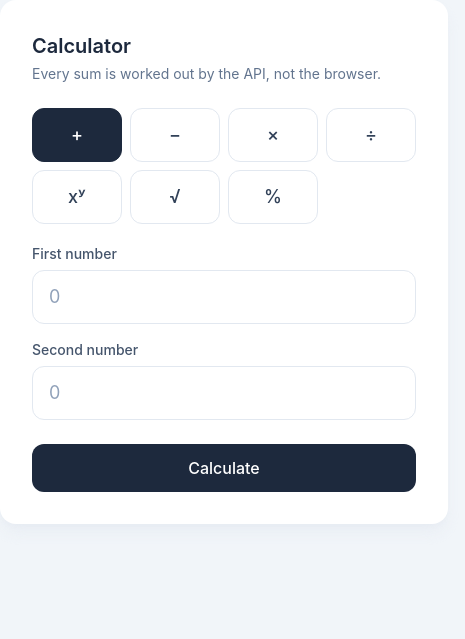
Test: displaying the result › renders the expression for {}
The image size is (465, 639).
Click the button named "subtraction" at (175,135), box x1=130 y1=108 x2=220 y2=162
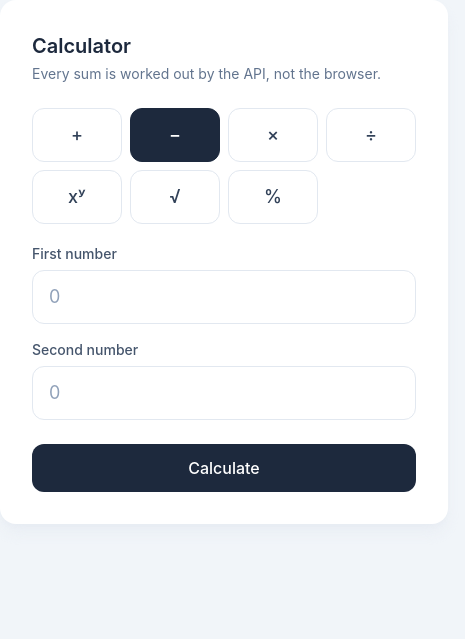
Type "10" into the field labelled "First number" at (224,297), box x1=32 y1=270 x2=416 y2=324
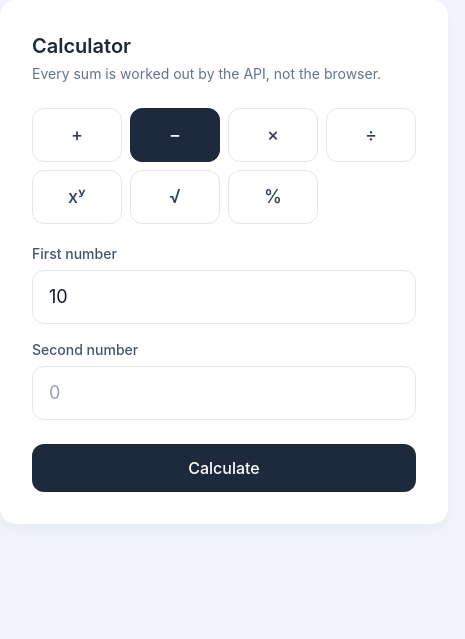
Type "3" into the field labelled "Second number" at (224,393), box x1=32 y1=366 x2=416 y2=420
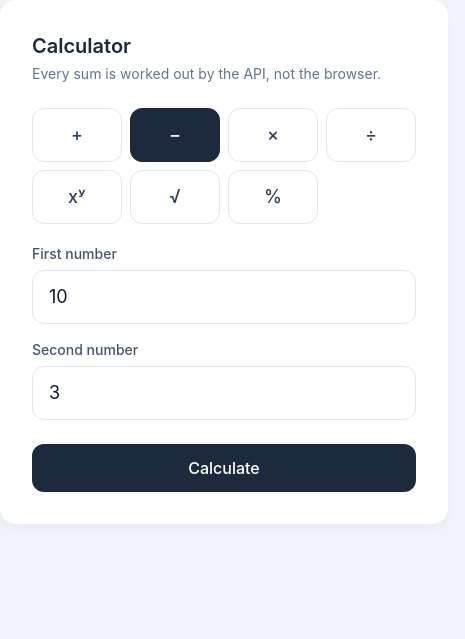
Click the button "Calculate" at (224,468), box x1=32 y1=444 x2=416 y2=492
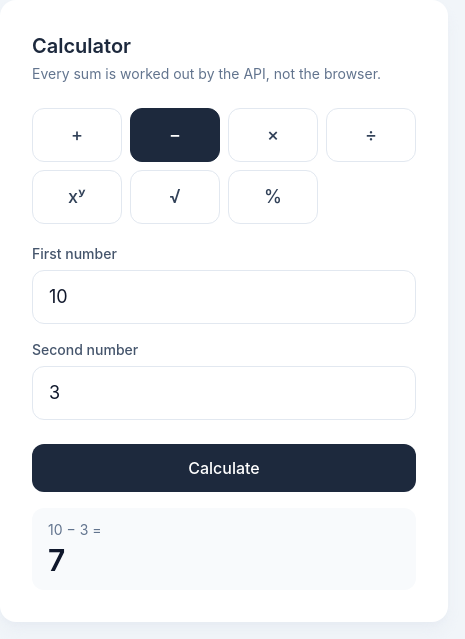
Check: the message shows "10 − 3", box x1=48 y1=521 x2=88 y2=538
